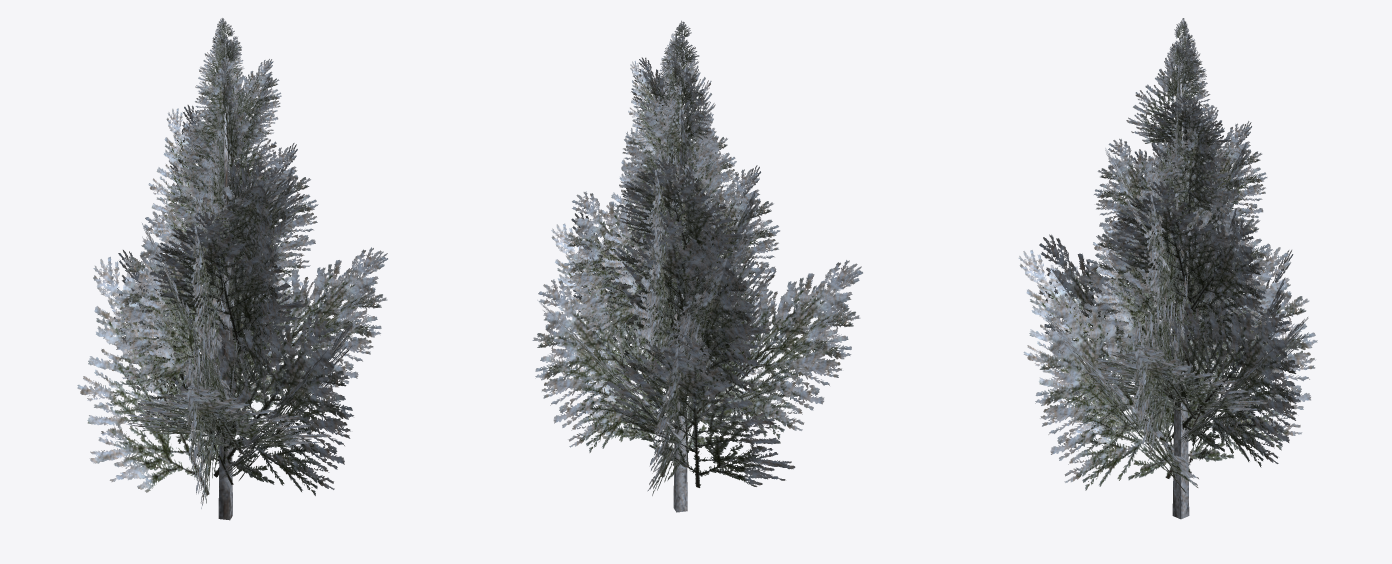
Rendered from SM_EN_2007_guanmu_01.FBX.
3 views of the same model, side by side, from view 1: azimuth 30°, elevation 25°; view 2: azimuth 150°, elevation 25°; view 3: azimuth 270°, elevation 25° (orthographic).
Parts seen in each view (by area): view 1: SM_EN_2007_guanmu_0101, SM_EN_2007_guanmu_0102; view 2: SM_EN_2007_guanmu_0101, SM_EN_2007_guanmu_0102; view 3: SM_EN_2007_guanmu_0101, SM_EN_2007_guanmu_0102.
Boxes of the visible parts, left/top/right/bottom form: SM_EN_2007_guanmu_0101: left=77, top=18, right=387, bottom=508; SM_EN_2007_guanmu_0102: left=218, top=38, right=232, bottom=520; SM_EN_2007_guanmu_0101: left=532, top=20, right=862, bottom=495; SM_EN_2007_guanmu_0102: left=673, top=44, right=687, bottom=512; SM_EN_2007_guanmu_0101: left=1018, top=18, right=1317, bottom=492; SM_EN_2007_guanmu_0102: left=1172, top=43, right=1189, bottom=519.
Bounding box in the file's own units: 494 × 672 × 505.
